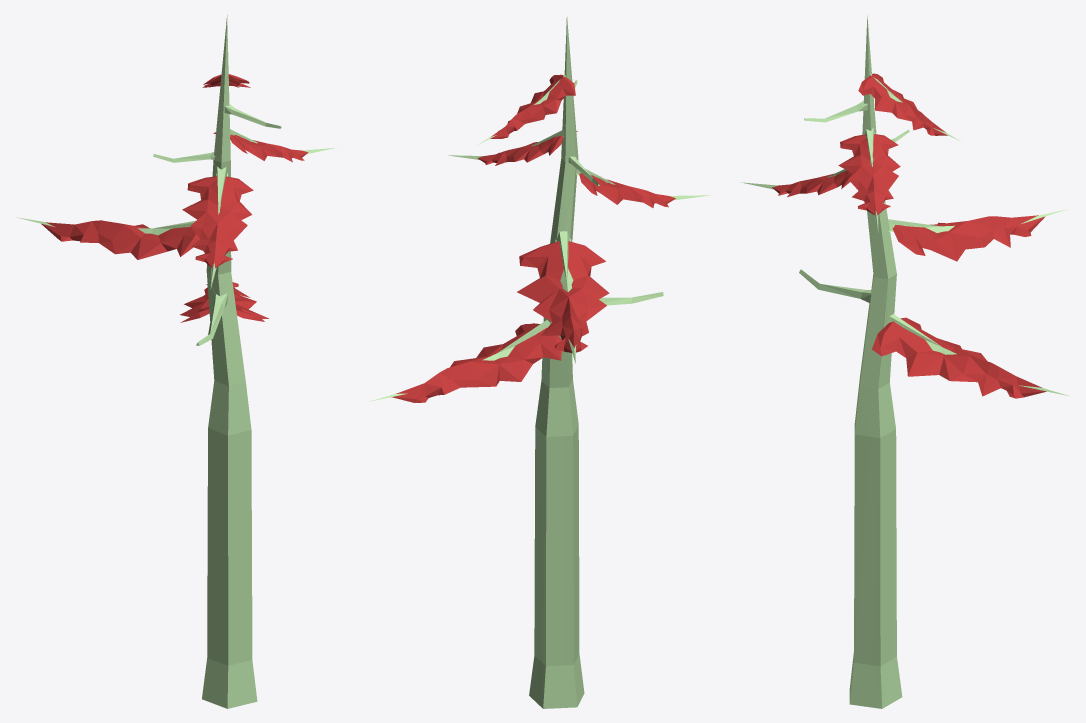
Rendered from mars_tree01_top.obj.
3 renders of one model, left to right at view 1: azimuth 30°, elevation 25°; view 2: azimuth 150°, elevation 25°; view 3: azimuth 270°, elevation 25°, orthographic.
Parts seen in each view (by area): view 1: Object.1; view 2: Object.1; view 3: Object.1.
Boxes of the visible parts, x1,y1,x2,y2 form: Object.1: (16,15,336,708); Object.1: (368,16,709,708); Object.1: (741,15,1069,708).
Bounding box in the file's own units: 18.94 × 54.82 × 24.24.
